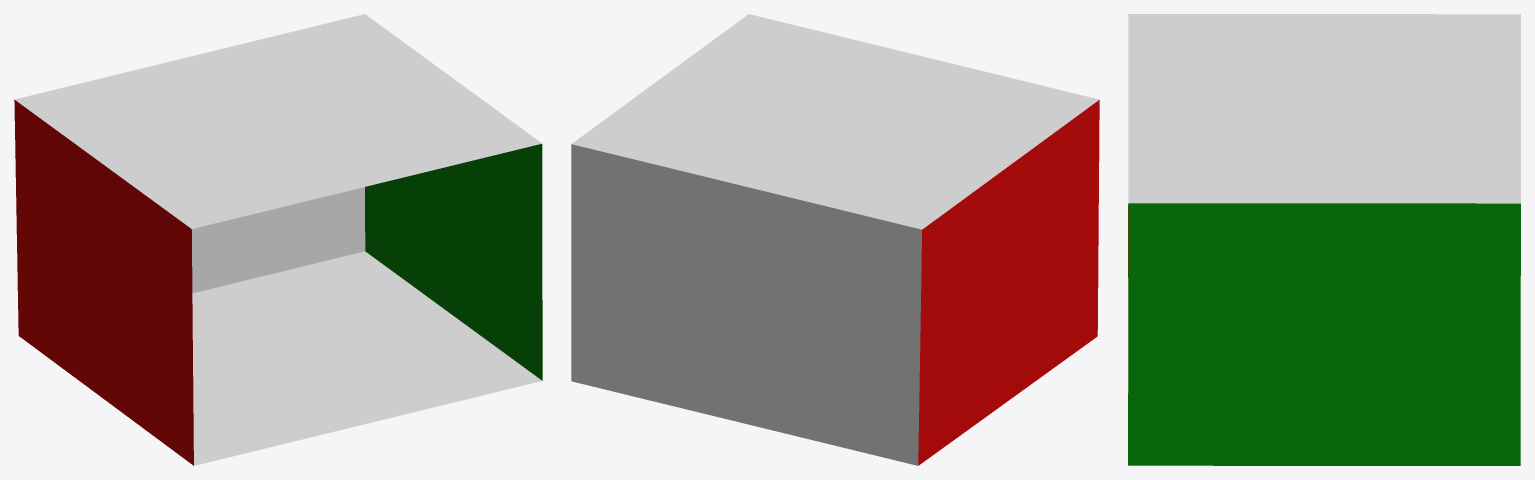
Rendered from DEBUG_SCENE.glb.
The picture shows the model from 3 angles, left to right: view 1: azimuth 30°, elevation 25°; view 2: azimuth 150°, elevation 25°; view 3: azimuth 270°, elevation 25°; orthographic projection. The views are drawn at different scales.
Parts seen in each view (by area): view 1: ceiling, Floor, left_wall, right_wall, back_wall; view 2: back_wall, ceiling, left_wall; view 3: right_wall, ceiling.
Boxes of the visible parts, x1=… form: ceiling: x1=15, y1=14, x2=541, y2=228; Floor: x1=192, y1=251, x2=541, y2=465; left_wall: x1=14, y1=99, x2=193, y2=465; right_wall: x1=365, y1=144, x2=542, y2=380; back_wall: x1=191, y1=187, x2=365, y2=293; back_wall: x1=571, y1=144, x2=921, y2=465; ceiling: x1=572, y1=14, x2=1099, y2=229; left_wall: x1=918, y1=100, x2=1099, y2=465; right_wall: x1=1128, y1=203, x2=1520, y2=465; ceiling: x1=1128, y1=14, x2=1520, y2=203.
Bounding box in the file's own units: 8.49 × 5.49 × 7.44.
